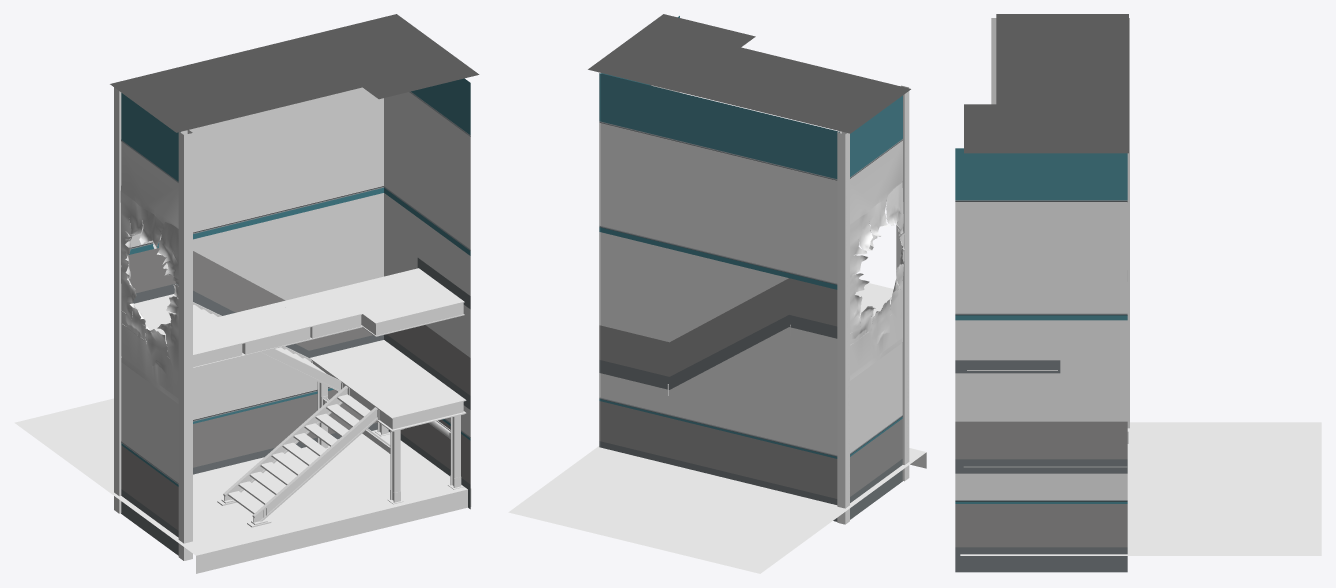
3 views of the same model, side by side, from view 1: azimuth 30°, elevation 25°; view 2: azimuth 150°, elevation 25°; view 3: azimuth 270°, elevation 25° (orthographic). The views are drawn at different scales.
Parts seen in each view (by area): view 1: SM_H_Building_FutureTech_WatchTower_01b; view 2: SM_H_Building_FutureTech_WatchTower_01b; view 3: SM_H_Building_FutureTech_WatchTower_01b.
Boxes of the visible parts, x1=… form: SM_H_Building_FutureTech_WatchTower_01b: x1=14, y1=14, x2=479, y2=573; SM_H_Building_FutureTech_WatchTower_01b: x1=508, y1=14, x2=926, y2=573; SM_H_Building_FutureTech_WatchTower_01b: x1=955, y1=14, x2=1321, y2=572.
Bounding box in the file's own units: 294 × 269 × 377.
